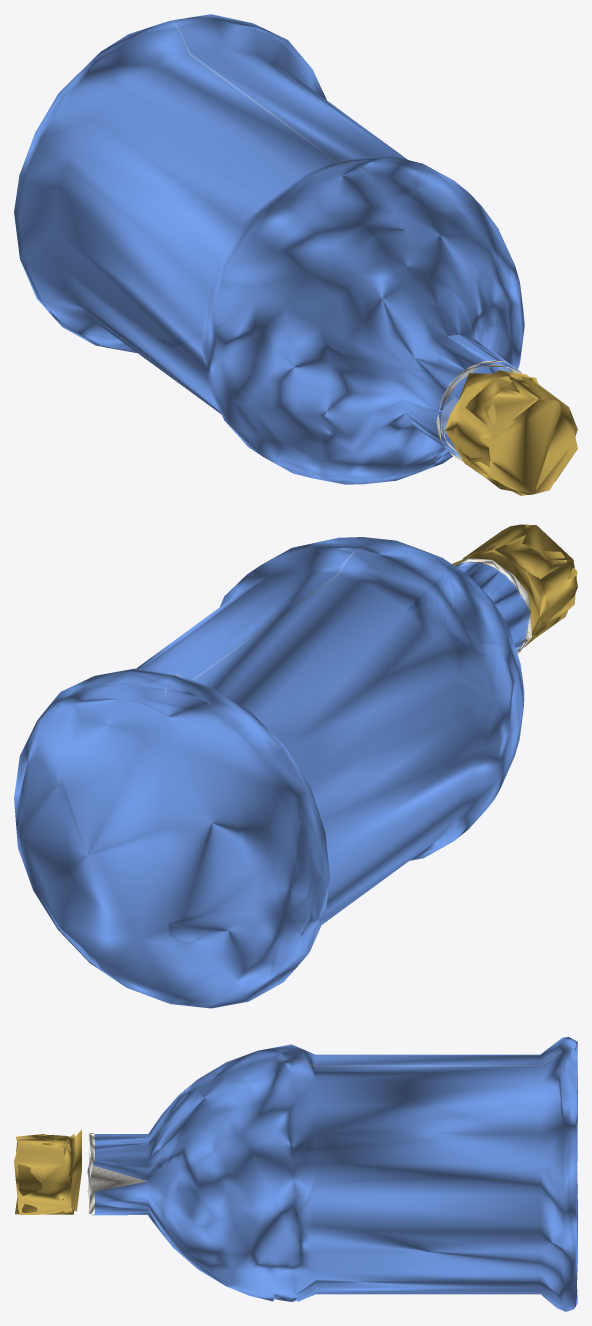
Rendered from model_align.obj.
3 renders of one model, top to bottom at view 1: azimuth 30°, elevation 25°; view 2: azimuth 150°, elevation 25°; view 3: azimuth 270°, elevation 25°, orthographic. The views are drawn at different scales.
Bounding box in the file's own units: 0.0683 × 0.0675 × 0.1387.
